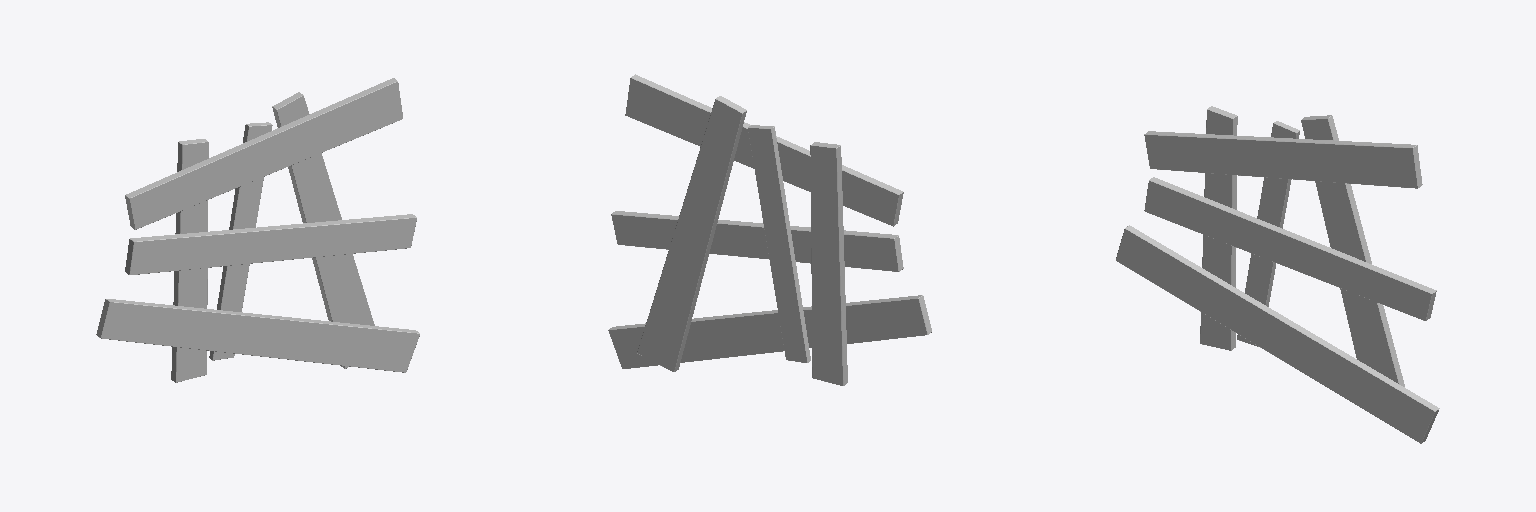
The model's file is tablones.obj.
3 renders of one model, left to right at view 1: azimuth 30°, elevation 25°; view 2: azimuth 150°, elevation 25°; view 3: azimuth 330°, elevation 25°, orthographic.
Visible parts, largest first — view 1: Tablones; view 2: Tablones; view 3: Tablones.
Part boxes in pixels (left/top/right/bottom): Tablones: left=96, top=78, right=419, bottom=382; Tablones: left=608, top=74, right=931, bottom=385; Tablones: left=1116, top=106, right=1439, bottom=443.
Bounding box in the file's own units: 2.04 × 1.81 × 0.104.